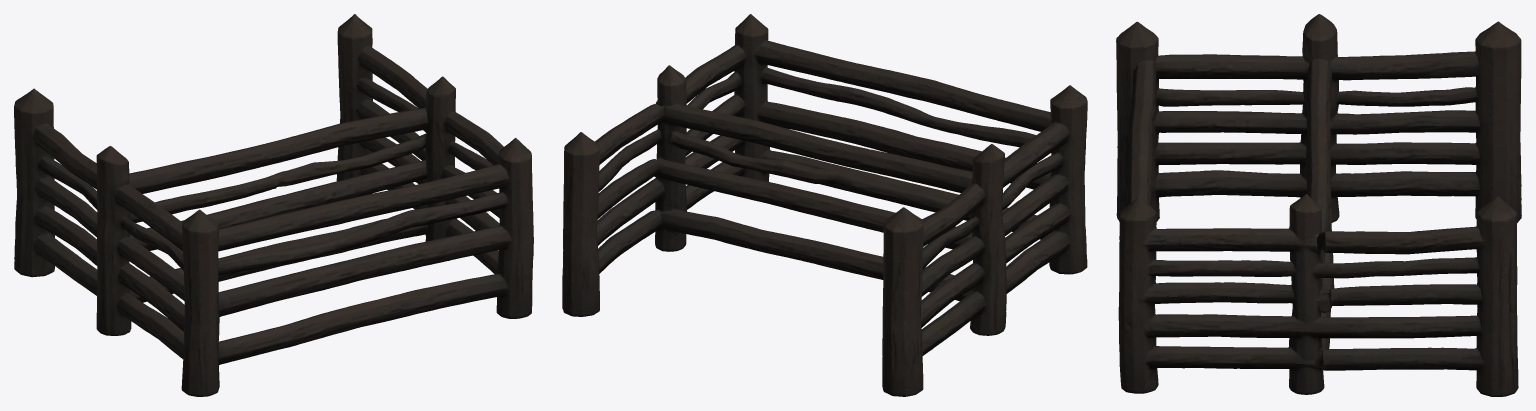
Rendered from war_fence_01.glb.
The picture shows the model from 3 angles, left to right: view 1: azimuth 30°, elevation 25°; view 2: azimuth 150°, elevation 25°; view 3: azimuth 270°, elevation 25°; orthographic projection. The views are drawn at different scales.
Parts seen in each view (by area): view 1: geometry_0; view 2: geometry_0; view 3: geometry_0.
Part boxes in pixels (x1=…): geometry_0: x1=14, y1=14, x2=533, y2=396; geometry_0: x1=562, y1=14, x2=1087, y2=396; geometry_0: x1=1116, y1=14, x2=1521, y2=396.
Size of the model in its own units: 1 by 0.4973 by 0.9092.
1 material, 1 textured.
